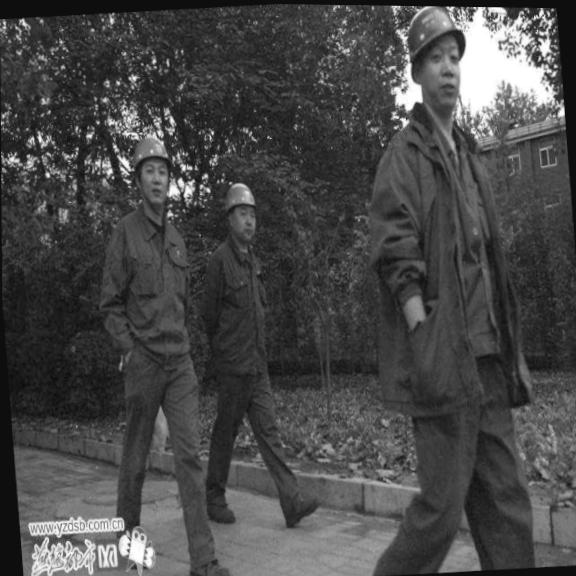no_safety_vest: (373, 102, 513, 335), (111, 212, 194, 340), (213, 245, 266, 362)
